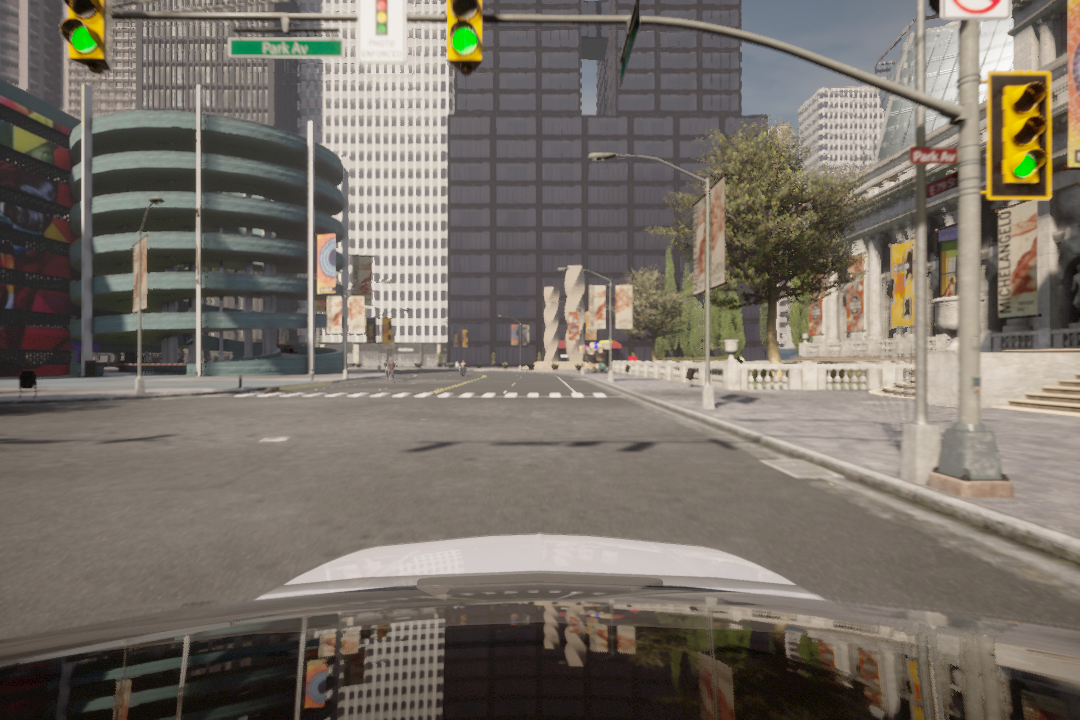TrafficLight: (994, 72, 1050, 204), (444, 3, 485, 62), (64, 3, 103, 58)
walkside: (231, 391, 624, 401)
